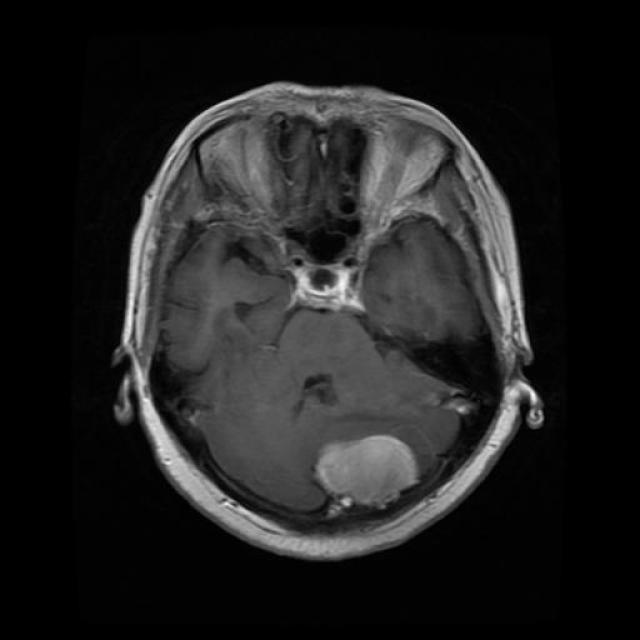Tumor: (308, 428, 430, 508)
